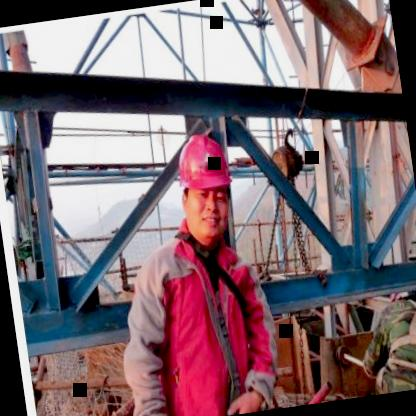helmet: (170, 122, 245, 249)
